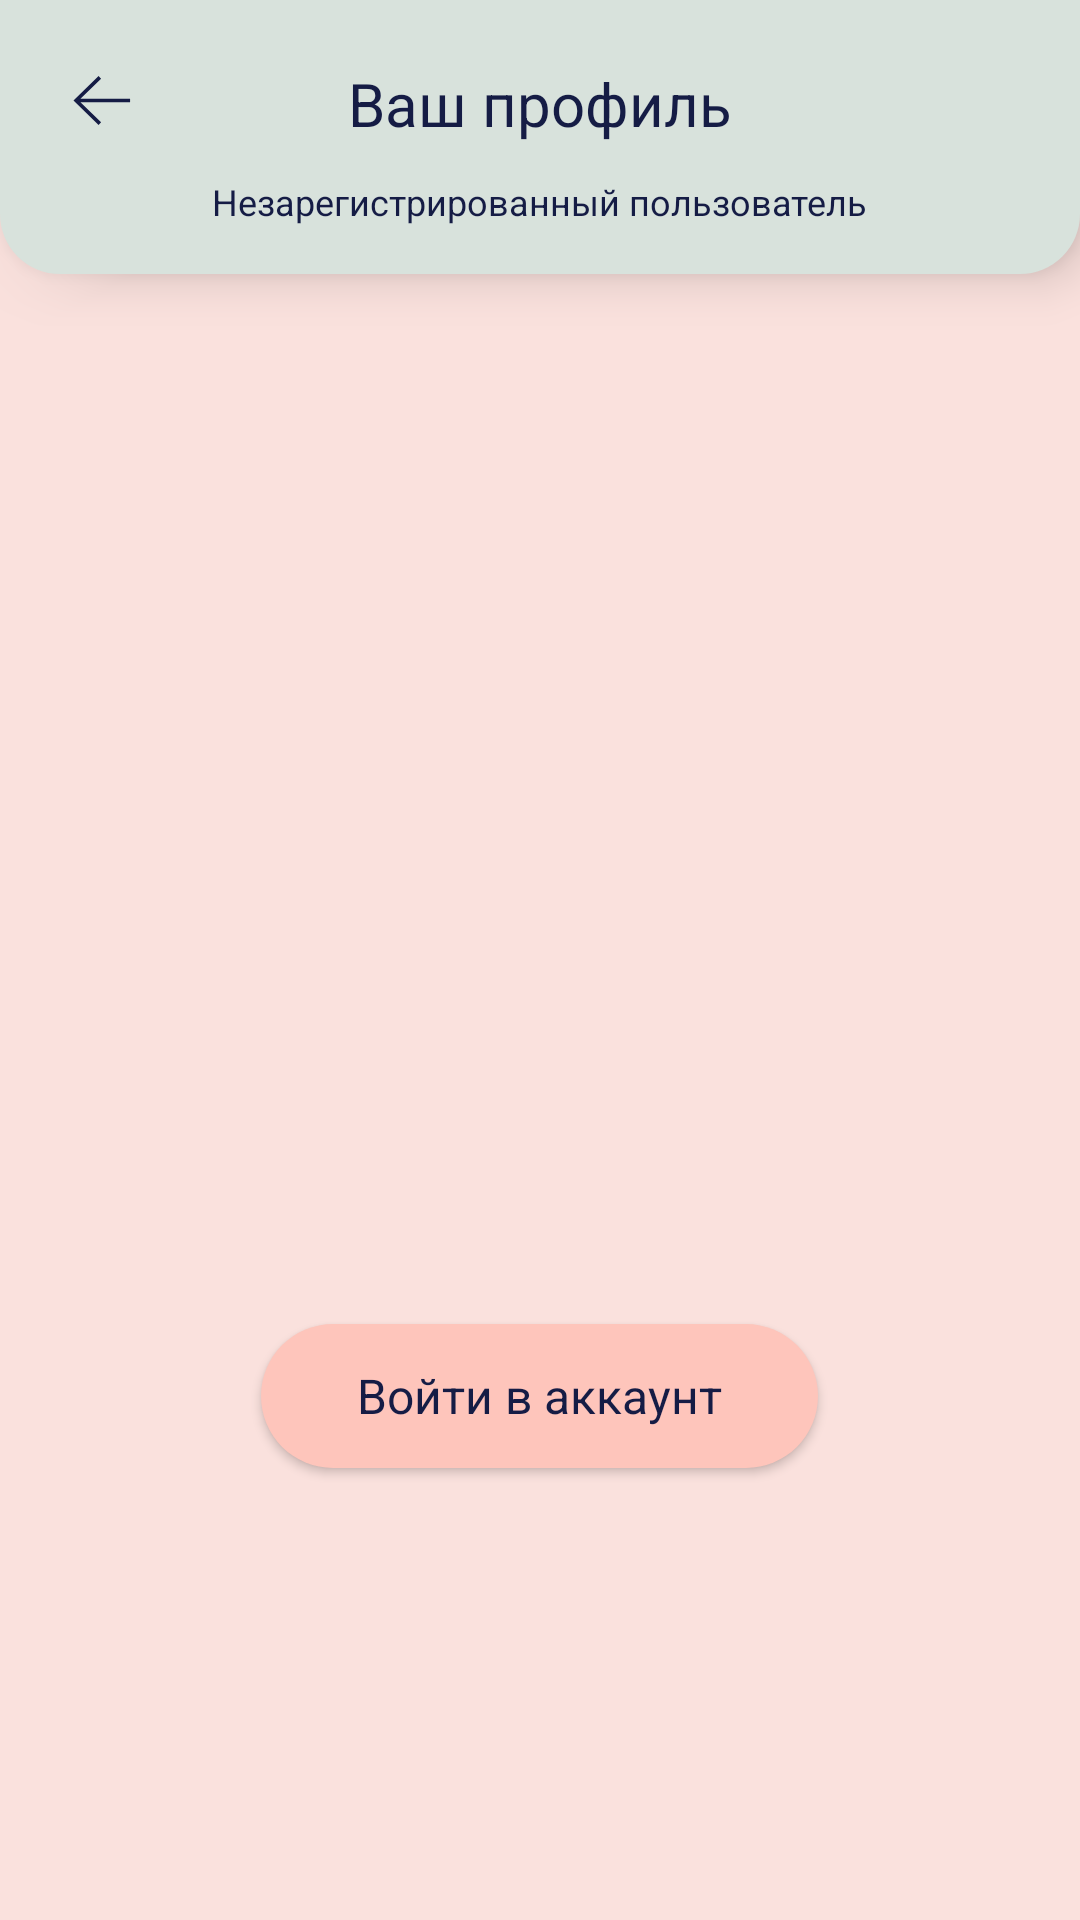

Icon bounding boxes for this 1080w x 1920h phone screenshot, format (x1, y1, x2, y2):
arrow: (73, 76, 130, 125)
